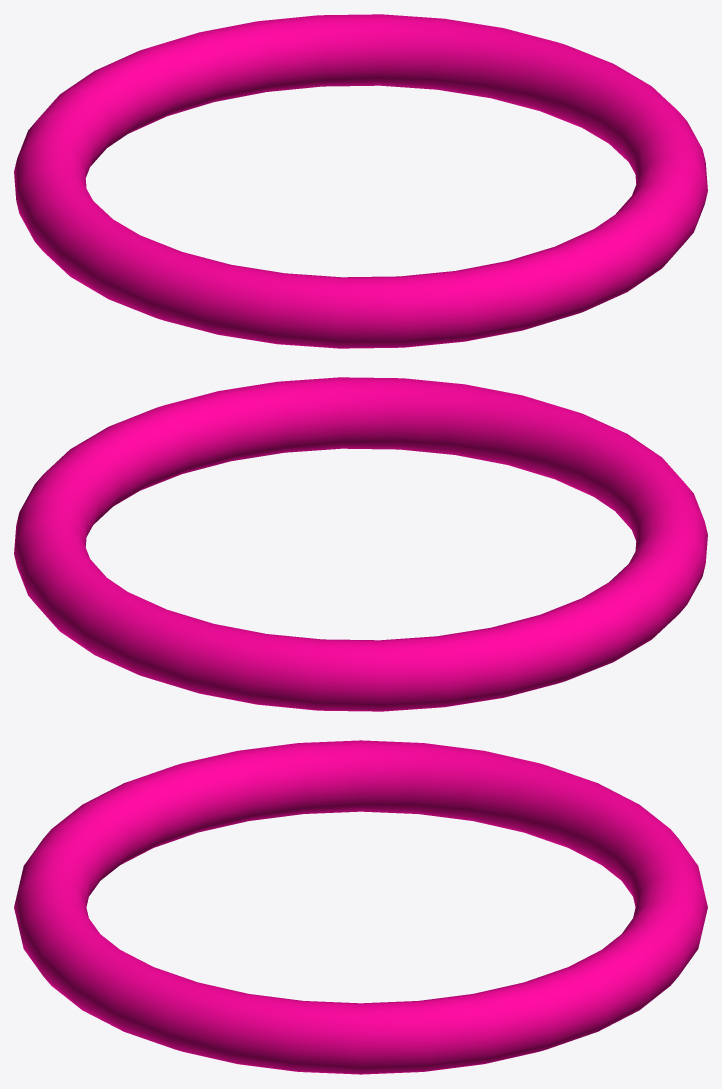
3 views of the same model, one above another, from view 1: azimuth 30°, elevation 25°; view 2: azimuth 150°, elevation 25°; view 3: azimuth 270°, elevation 25° (orthographic).
Parts seen in each view (by area): view 1: Torus001; view 2: Torus001; view 3: Torus001.
Part boxes in pixels (x1,y1,x2,y2): Torus001: [14, 14, 707, 348]; Torus001: [14, 377, 707, 711]; Torus001: [14, 740, 707, 1074].
Size of the model in its own units: 70.03 by 7.19 by 70.03.
